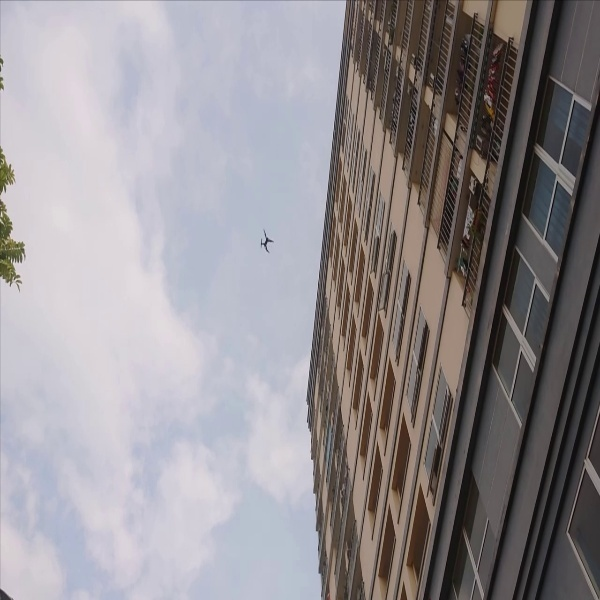drone: (255, 226, 277, 254)
